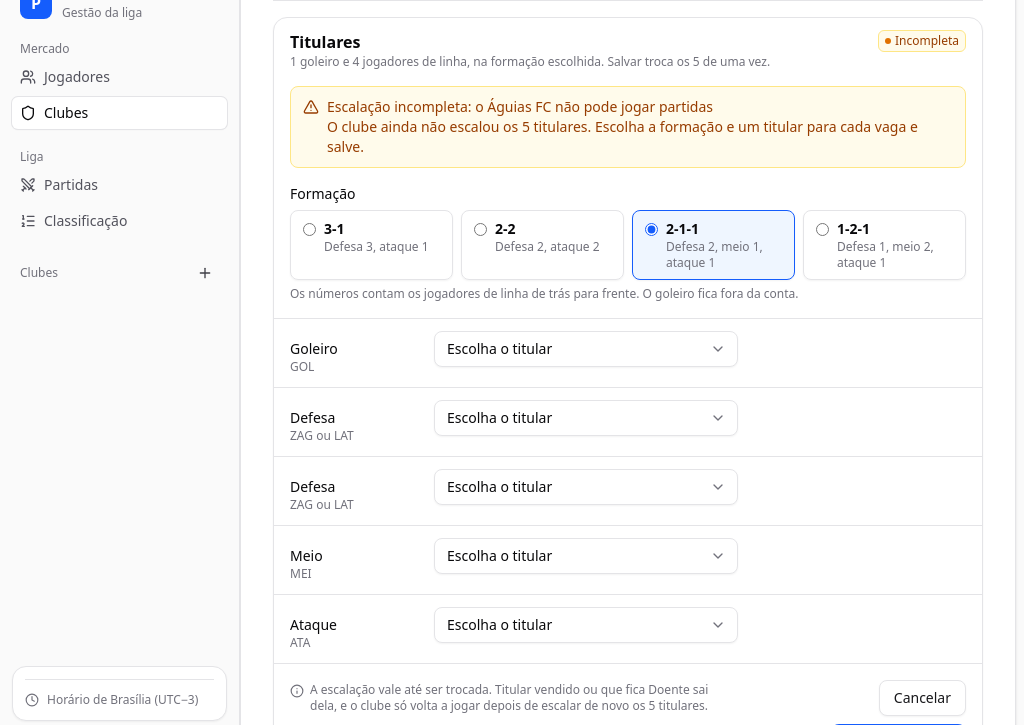
Test: Escalação › pede um titular em cada vaga antes de enviar
The width and height of the screenshot is (1024, 725).
(page scrolled)
Expected: the text "Incompleta" is shown, x1=878 y1=30 x2=966 y2=52
Select "Bruno Tavares (GOL)" in the dropdown labelled "Goleiro" at x=586, y=349, box x1=434 y1=331 x2=738 y2=367
(page scrolled)
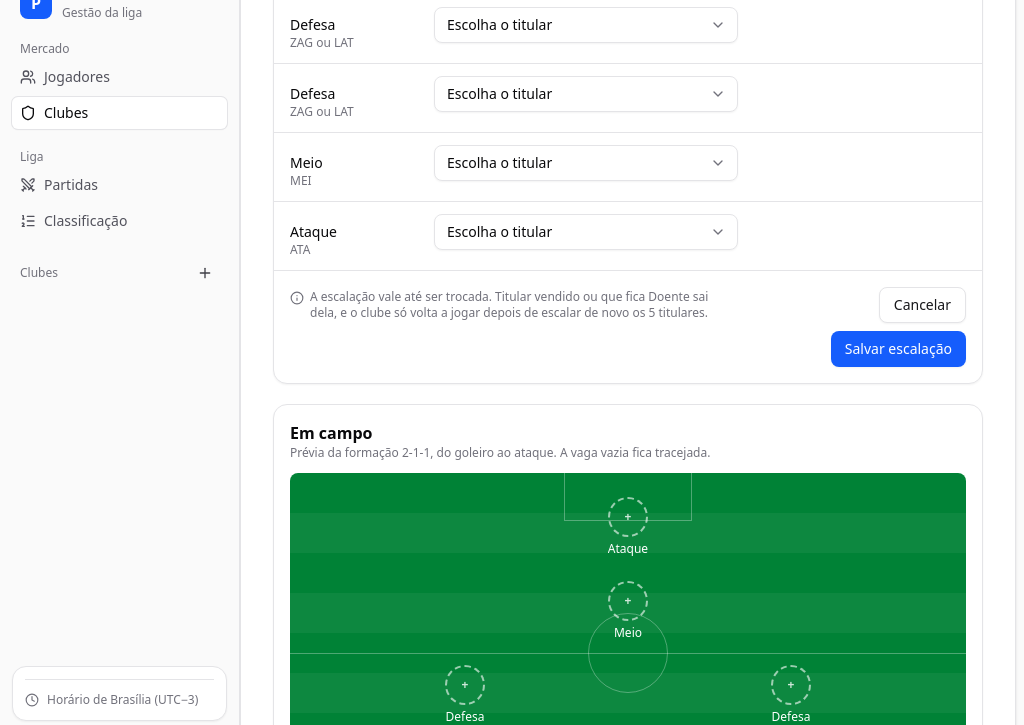
Click the button "Salvar escalação" at x=898, y=349, box x1=831 y1=331 x2=966 y2=367
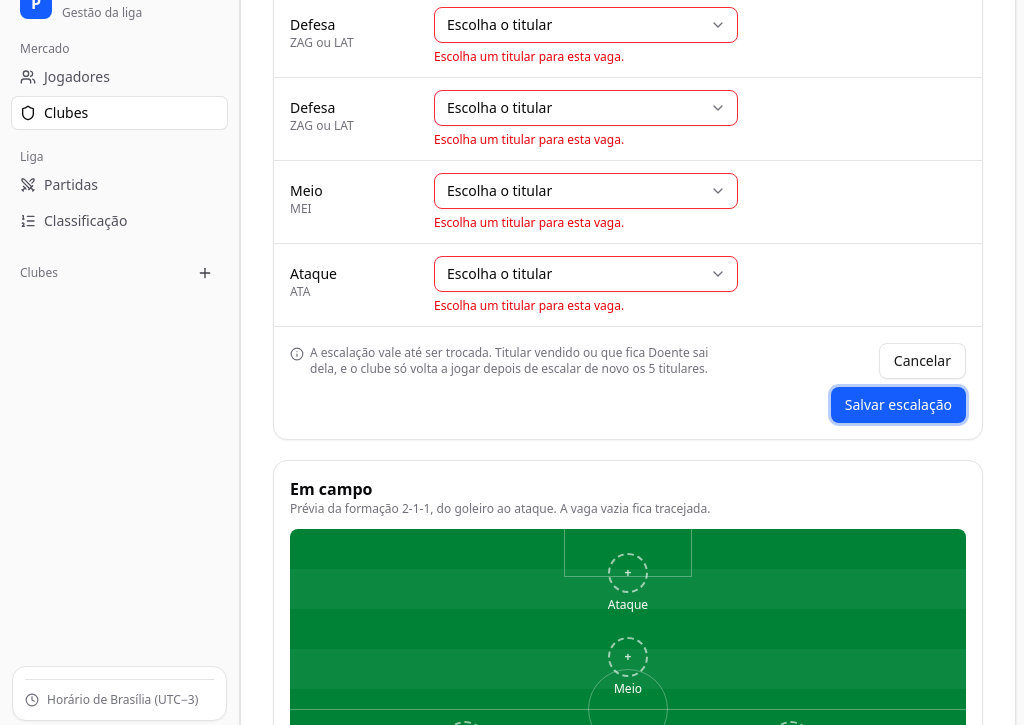
Now the text "Escolha um titular para esta vaga." is shown 4 times, box x1=434 y1=48 x2=624 y2=65; x1=434 y1=131 x2=624 y2=148; x1=434 y1=214 x2=624 y2=231; x1=434 y1=297 x2=624 y2=314
